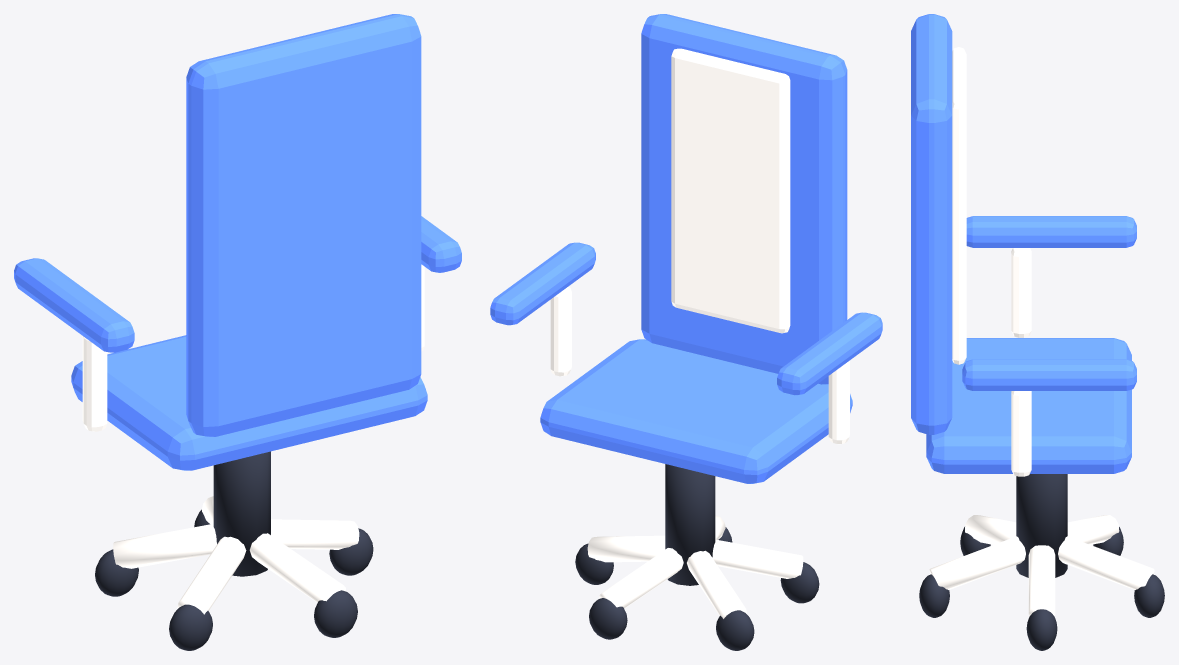
Rendered from fixture.glb.
The picture shows the model from 3 angles, left to right: view 1: azimuth 30°, elevation 25°; view 2: azimuth 150°, elevation 25°; view 3: azimuth 270°, elevation 25°; orthographic projection. The views are drawn at different scales.
Parts seen in each view (by area): view 1: StaticBatch__chair-root__fixture-chair-blue, Chair_Seat, StaticBatch__chair-base__fixture-dark-plastic, StaticBatch__chair-base__fixture-ivory, StaticBatch__chair-root__fixture-ivory; view 2: StaticBatch__chair-root__fixture-chair-blue, StaticBatch__chair-root__fixture-ivory, Chair_Seat, StaticBatch__chair-base__fixture-dark-plastic, StaticBatch__chair-base__fixture-ivory; view 3: StaticBatch__chair-root__fixture-chair-blue, Chair_Seat, StaticBatch__chair-base__fixture-ivory, StaticBatch__chair-root__fixture-ivory, StaticBatch__chair-base__fixture-dark-plastic.
Part boxes in pixels (<box>): StaticBatch__chair-root__fixture-chair-blue: <box>14,14,461,436</box>; Chair_Seat: <box>71,335,427,470</box>; StaticBatch__chair-base__fixture-dark-plastic: <box>95,451,373,650</box>; StaticBatch__chair-base__fixture-ivory: <box>113,496,359,614</box>; StaticBatch__chair-root__fixture-ivory: <box>82,264,424,431</box>; StaticBatch__chair-root__fixture-chair-blue: <box>490,14,882,395</box>; StaticBatch__chair-root__fixture-ivory: <box>550,48,849,444</box>; Chair_Seat: <box>540,339,852,483</box>; StaticBatch__chair-base__fixture-dark-plastic: <box>575,464,819,650</box>; StaticBatch__chair-base__fixture-ivory: <box>587,515,803,618</box>; StaticBatch__chair-root__fixture-chair-blue: <box>911,14,1136,434</box>; Chair_Seat: <box>926,338,1131,473</box>; StaticBatch__chair-base__fixture-ivory: <box>929,515,1154,616</box>; StaticBatch__chair-root__fixture-ivory: <box>952,47,1031,476</box>; StaticBatch__chair-base__fixture-dark-plastic: <box>919,474,1164,650</box>.
Bounding box in the file's own units: 0.725 × 1.17 × 0.4942.
